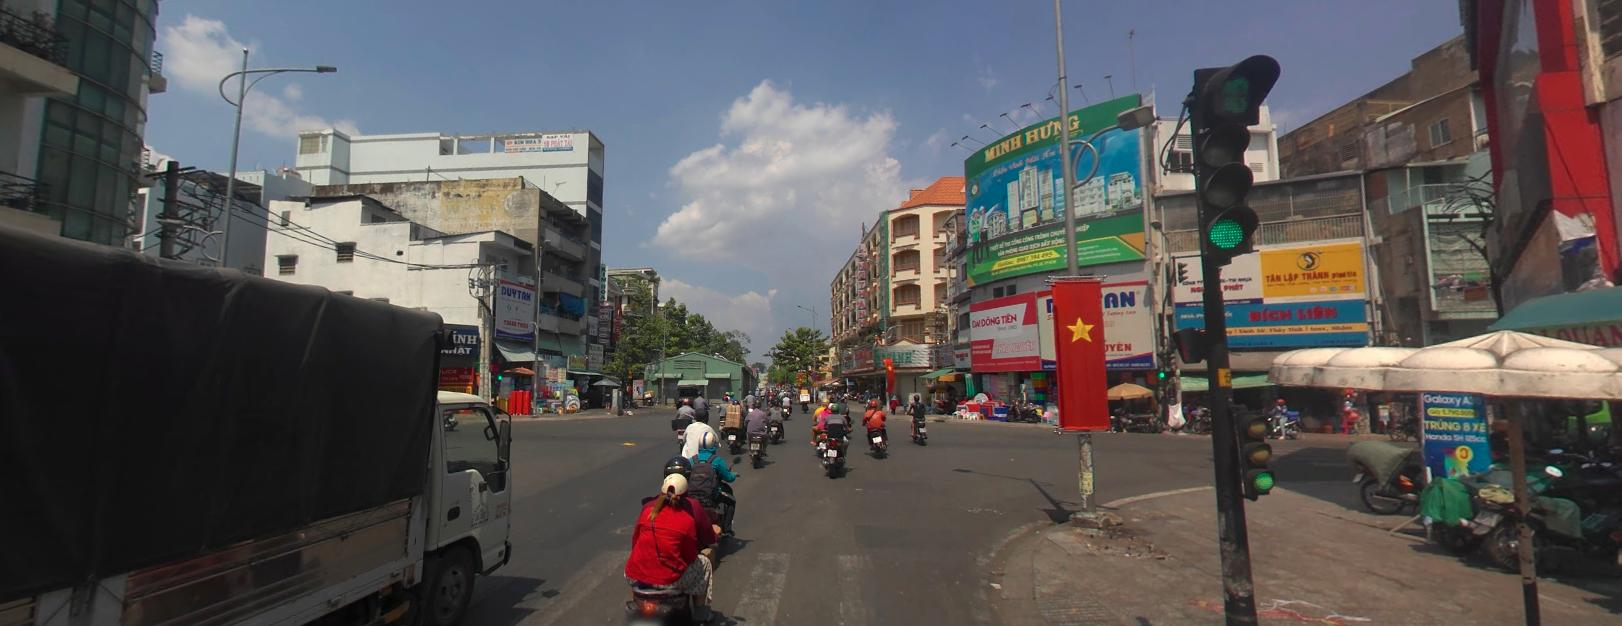Cam dung va do: (811, 372, 817, 378)
Nguy hiem: (810, 379, 818, 385)
